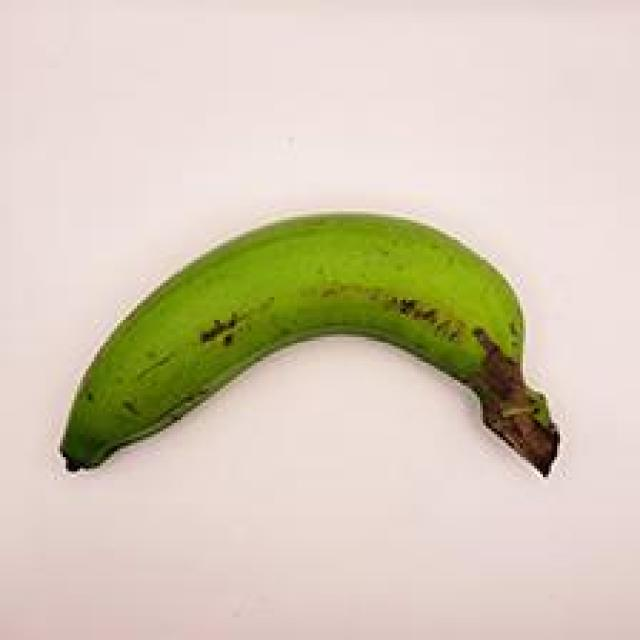Raw: (34, 194, 580, 516)
